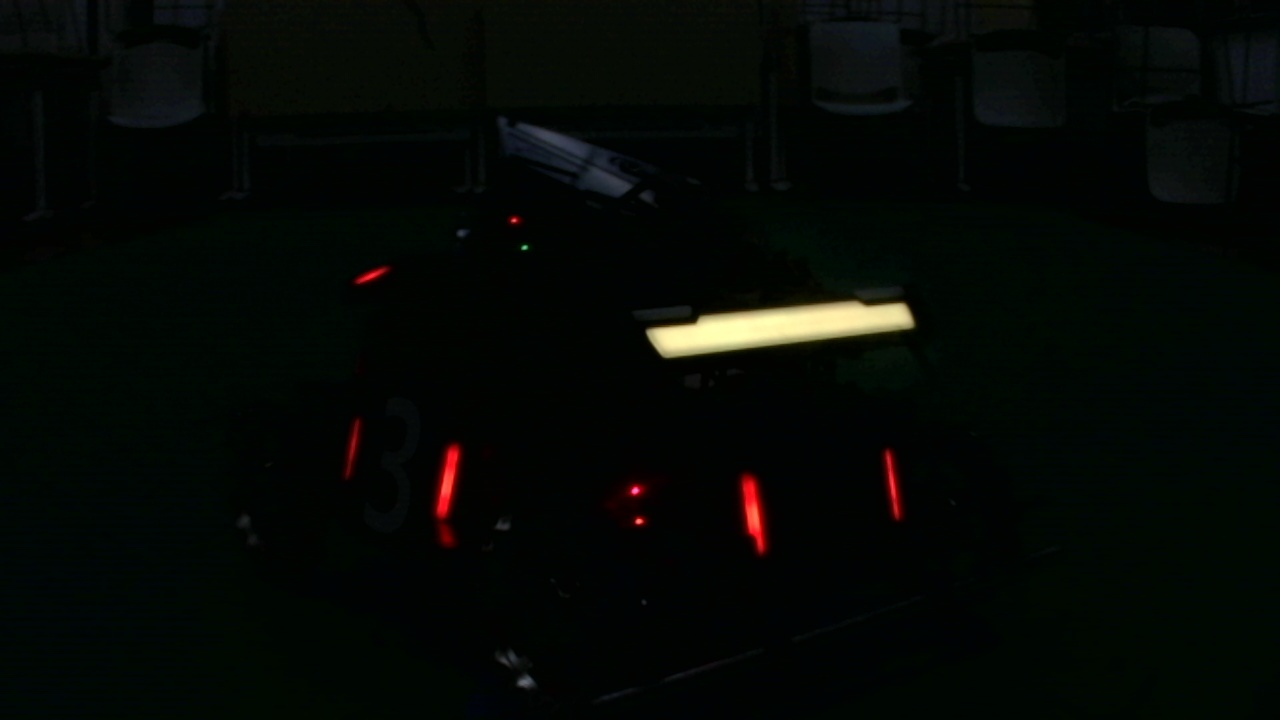lamp: (738, 461, 770, 552), (436, 438, 457, 525), (877, 450, 904, 517)
notpair1: (436, 440, 768, 550)
pair1: (740, 452, 899, 557)
